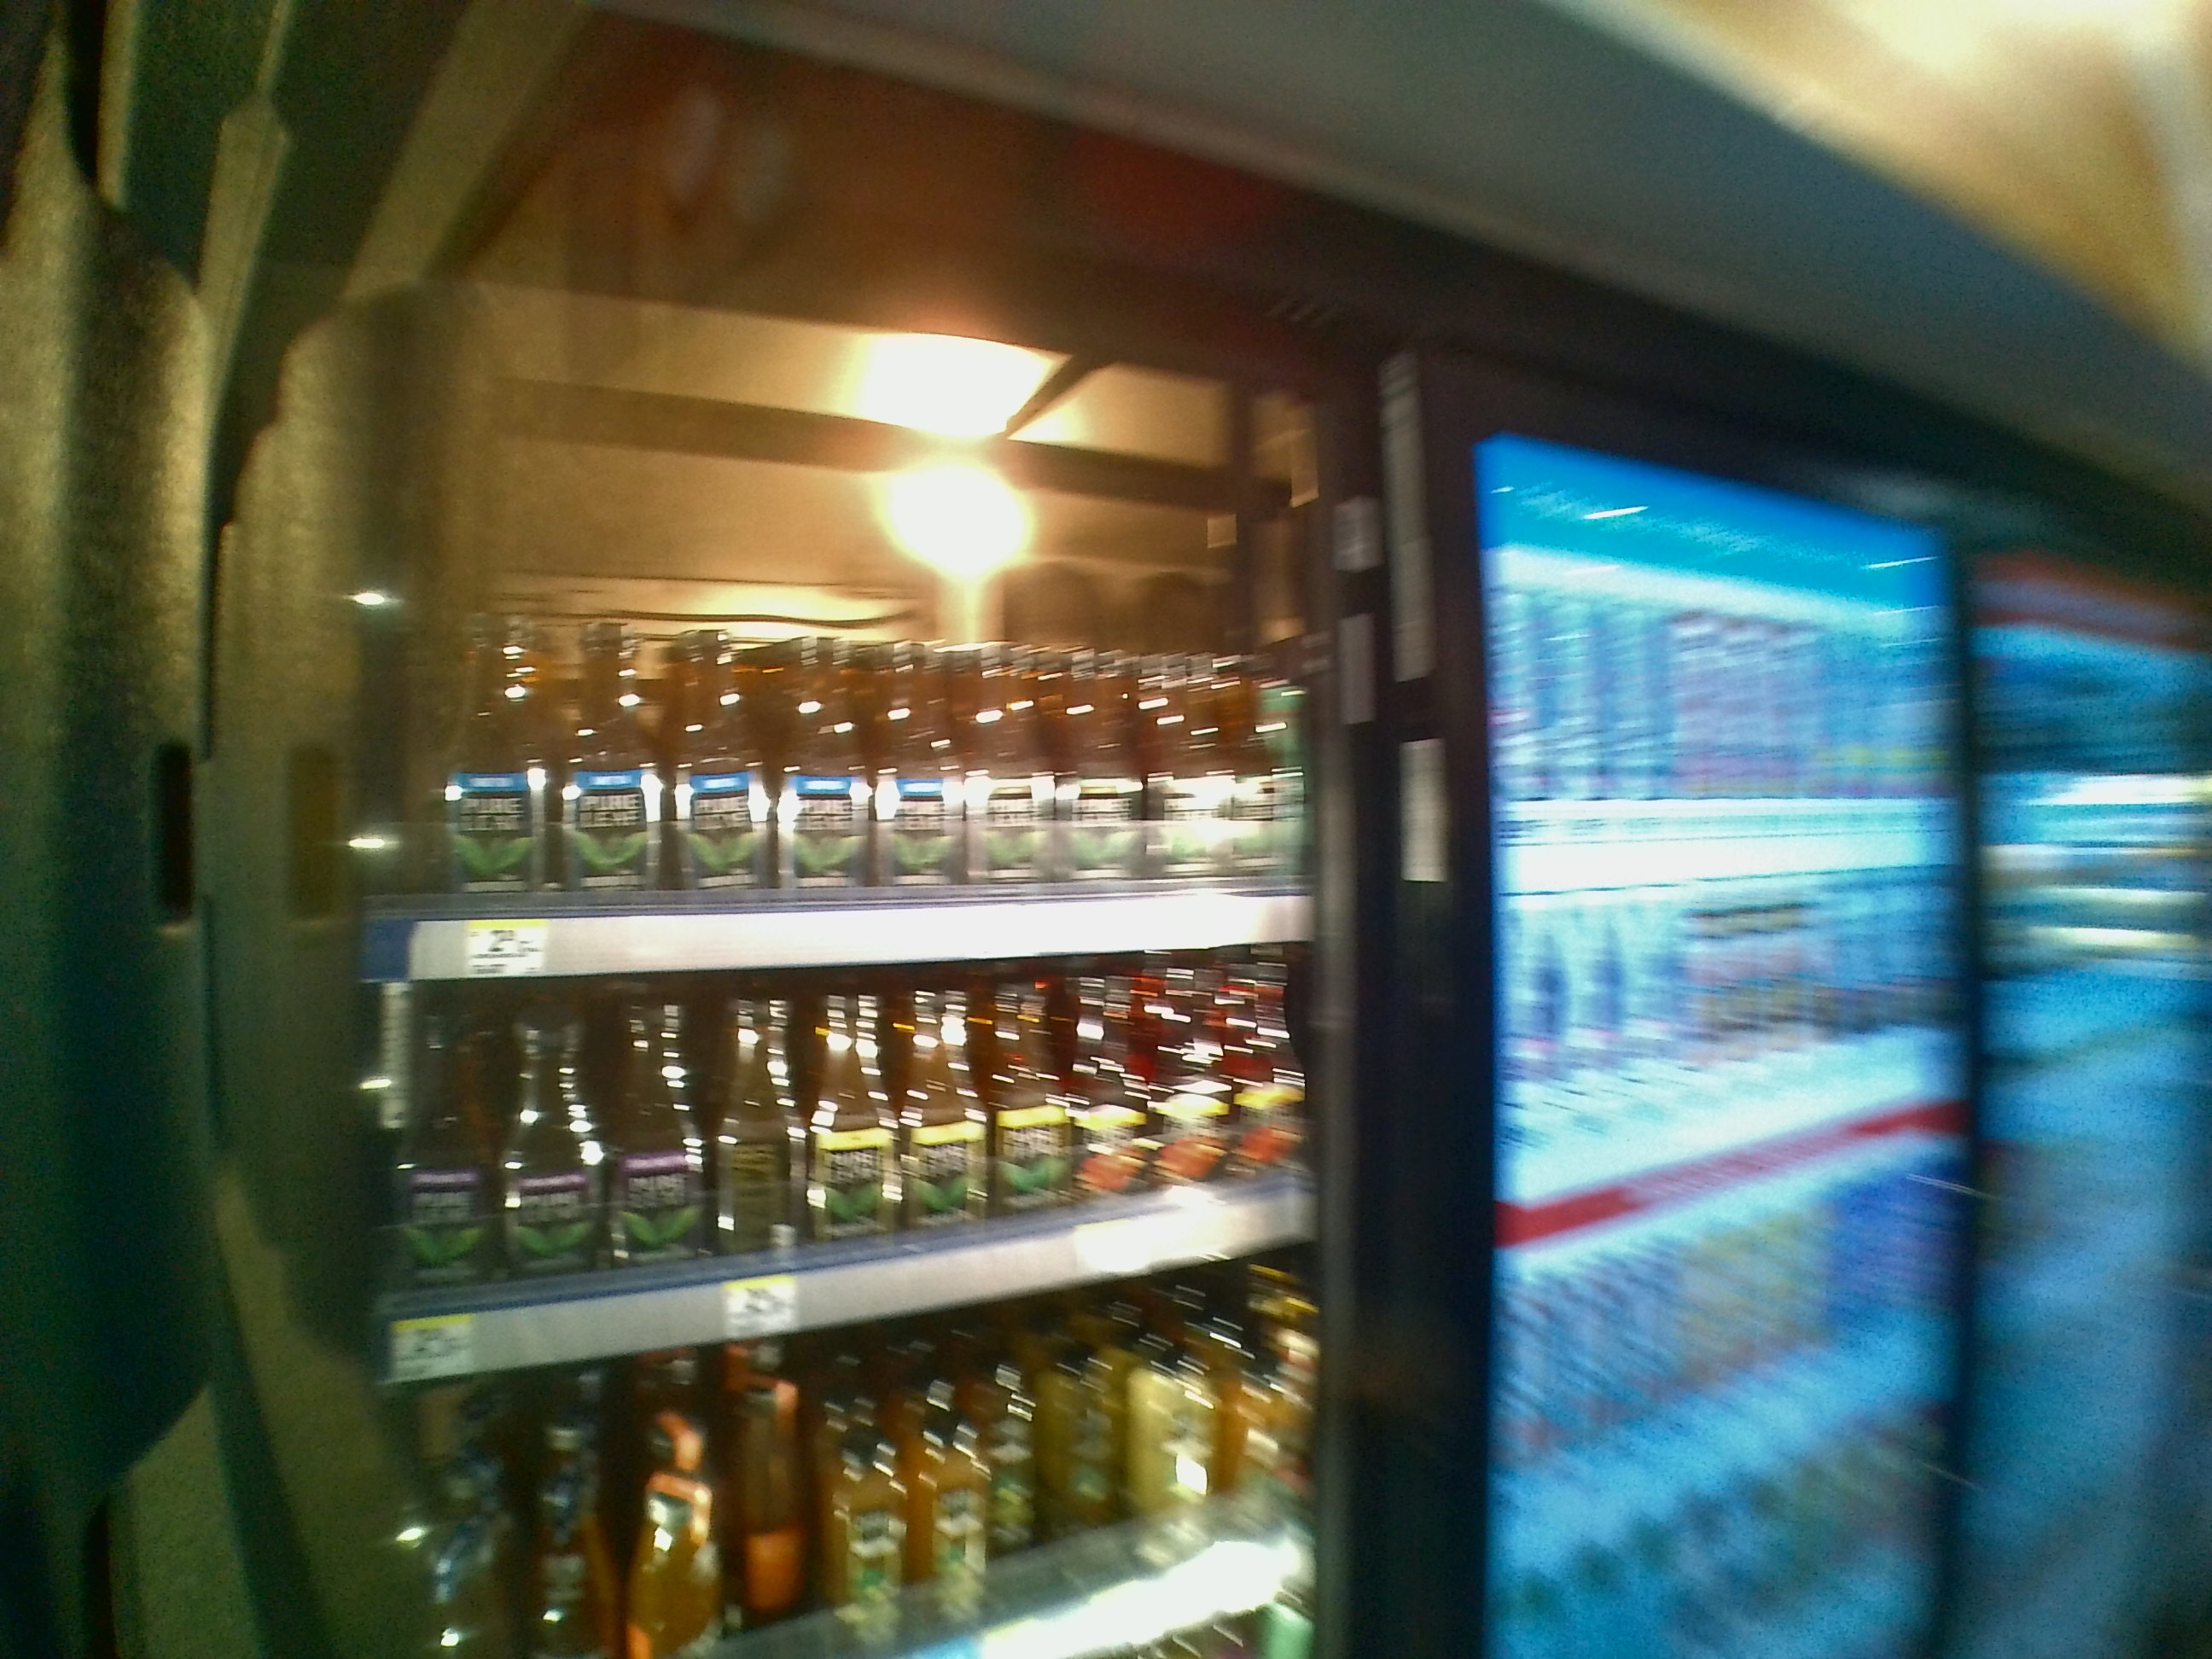shelf: (364, 387, 1305, 985), (366, 995, 1322, 1382)
